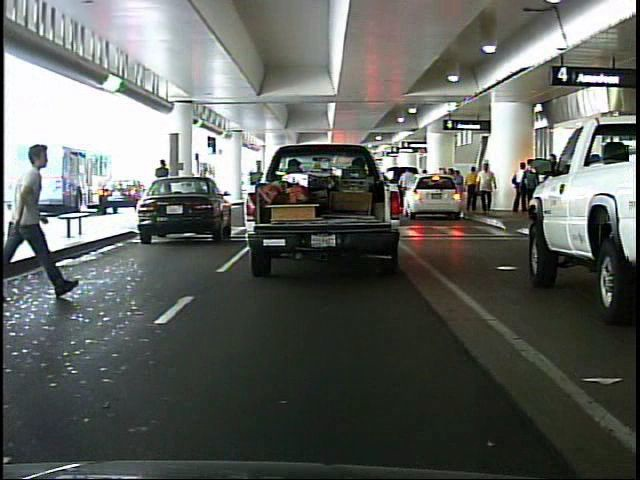person: (3, 127, 86, 314), (150, 155, 176, 217), (472, 156, 495, 218), (511, 156, 531, 216), (461, 160, 480, 220)
